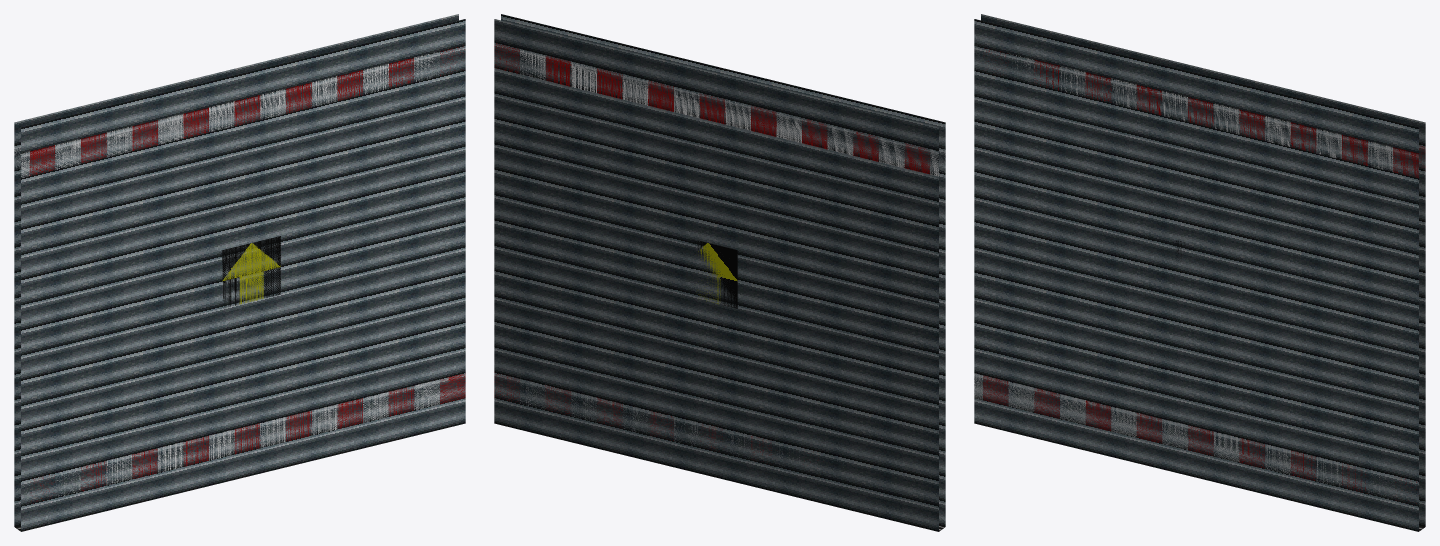
File: primary_116.glb
3 views of the same model, side by side, from view 1: azimuth 30°, elevation 25°; view 2: azimuth 150°, elevation 25°; view 3: azimuth 330°, elevation 25° (orthographic).
Visible parts, largest first — view 1: Object; view 2: Object; view 3: Object.
Boxes of the visible parts, x1,y1,x2,y2 form: Object: [14, 14, 465, 531]; Object: [494, 14, 945, 531]; Object: [974, 14, 1425, 531].
Size of the model in its own units: 3.99 by 3.47 by 0.1035.
6 materials, 6 textured.
